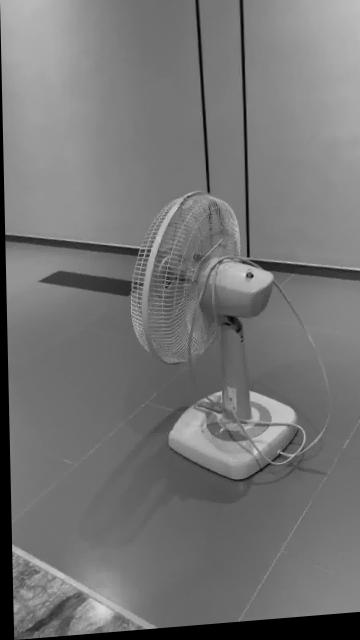Fan: (129, 196, 297, 485)
